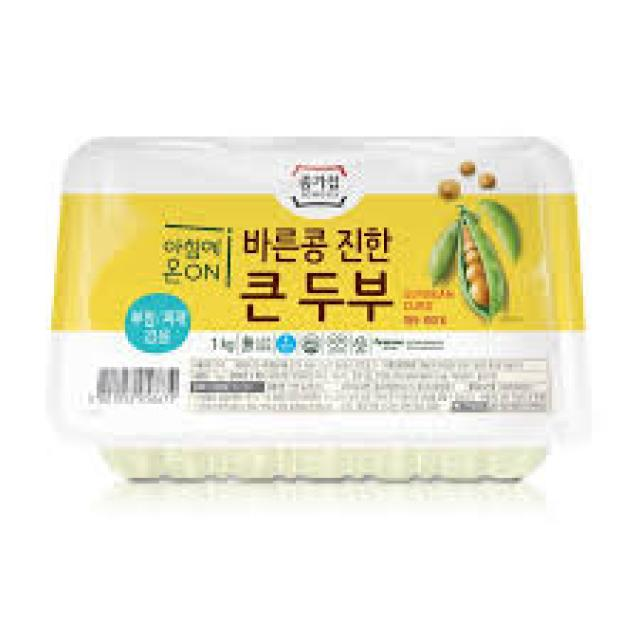tofu: (68, 122, 598, 497)
